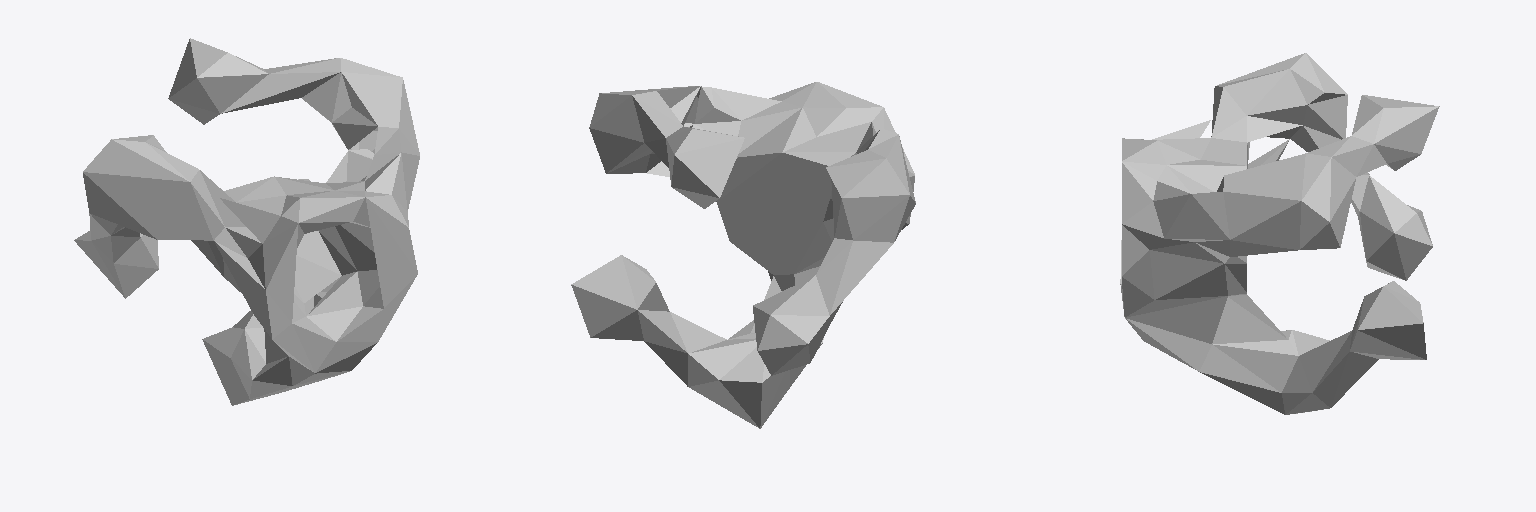
Rendered from sim_ecub_1-0_l_wrist_1.obj.
3 renders of one model, left to right at view 1: azimuth 30°, elevation 25°; view 2: azimuth 150°, elevation 25°; view 3: azimuth 270°, elevation 25°, orthographic.
Size of the model in its own units: 61.67 by 59.63 by 54.06.